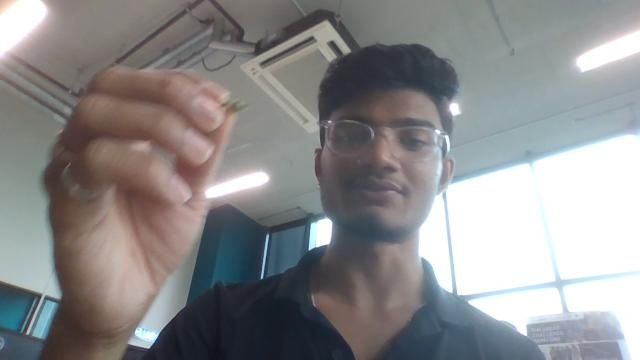Fruit Bud: (224, 100, 247, 114)
